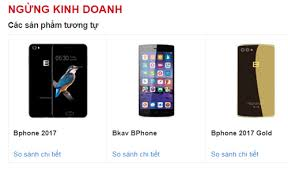bphone: (135, 41, 178, 121)
